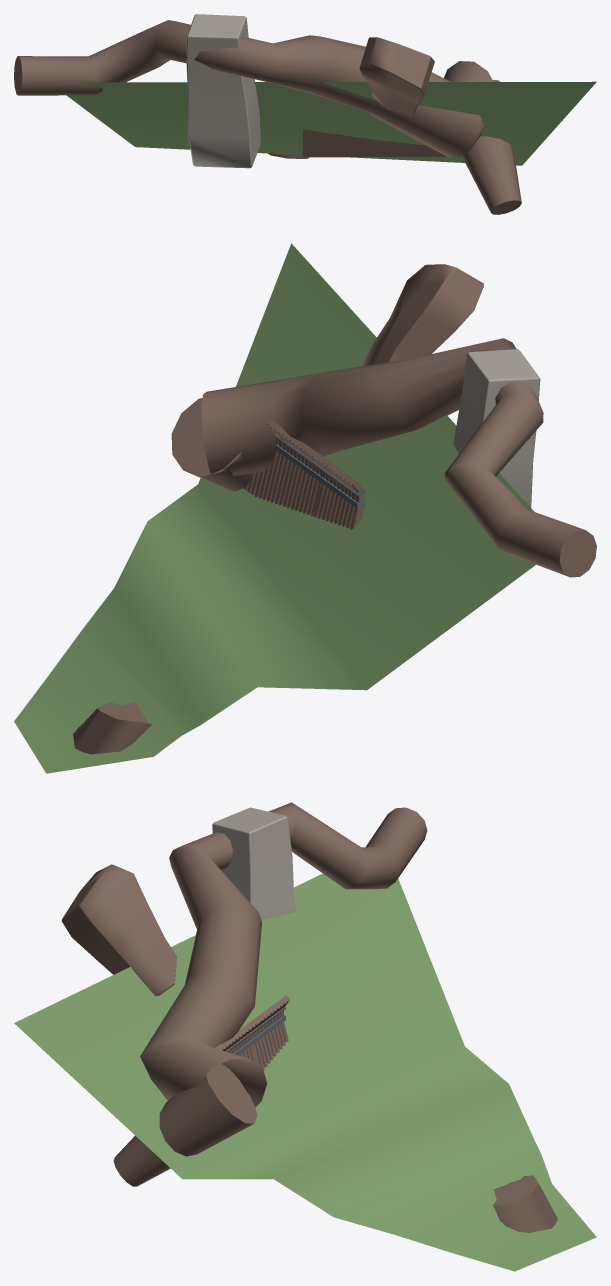
The model's file is MSH_Stands_08.fbx.
3 views of the same model, one above another, from view 1: azimuth 30°, elevation 25°; view 2: azimuth 150°, elevation 25°; view 3: azimuth 270°, elevation 25° (orthographic). The views are drawn at different scales.
Parts seen in each view (by area): view 1: MSH_Stands_08; view 2: MSH_Stands_08; view 3: MSH_Stands_08.
Boxes of the visible parts, left/top/right/bottom form: MSH_Stands_08: left=14, top=14, right=596, bottom=214; MSH_Stands_08: left=14, top=243, right=596, bottom=773; MSH_Stands_08: left=14, top=802, right=596, bottom=1271.
Bounding box in the file's own units: 4041 × 2598 × 4421.
